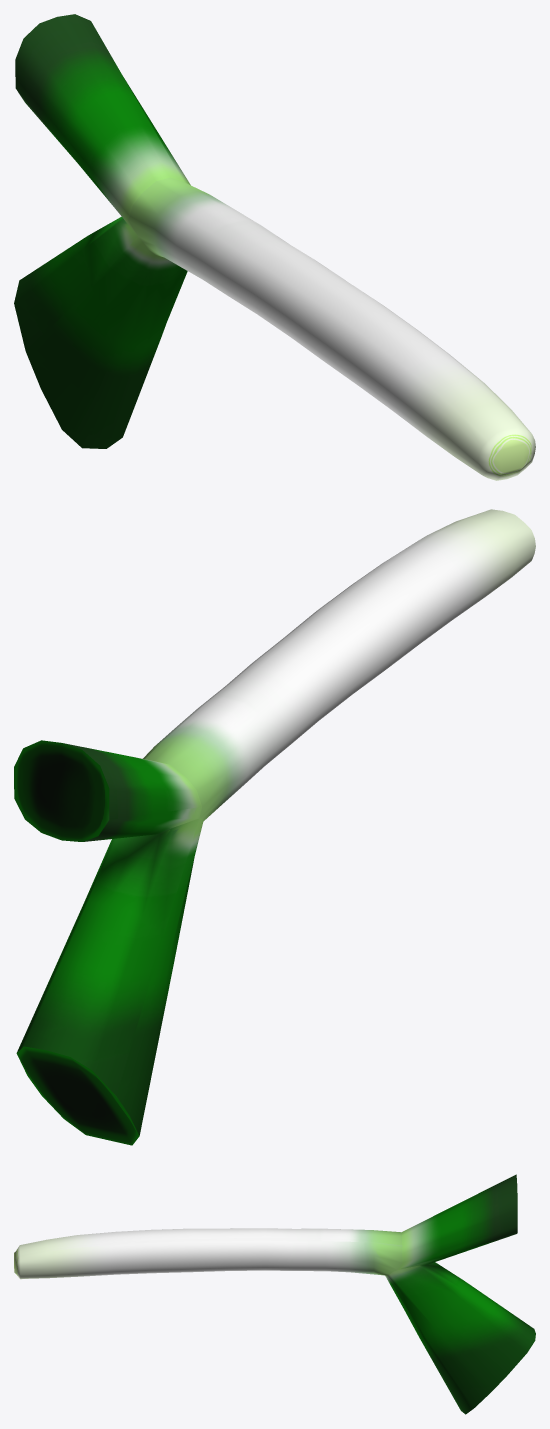
Rendered from LongNEGI.fbx.
3 views of the same model, one above another, from view 1: azimuth 30°, elevation 25°; view 2: azimuth 150°, elevation 25°; view 3: azimuth 270°, elevation 25° (orthographic). The views are drawn at different scales.
Visible parts, largest first — view 1: pCube1; view 2: pCube1; view 3: pCube1.
Boxes of the visible parts, x1=… form: pCube1: x1=14, y1=14, x2=535, y2=480; pCube1: x1=14, y1=509, x2=535, y2=1145; pCube1: x1=14, y1=1174, x2=535, y2=1414.
Bounding box in the file's own units: 12.19 × 46.59 × 94.97.
Materials: 1 (1 with a texture image).
